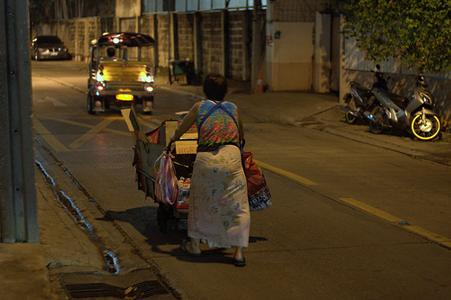person: (168, 70, 253, 269)
